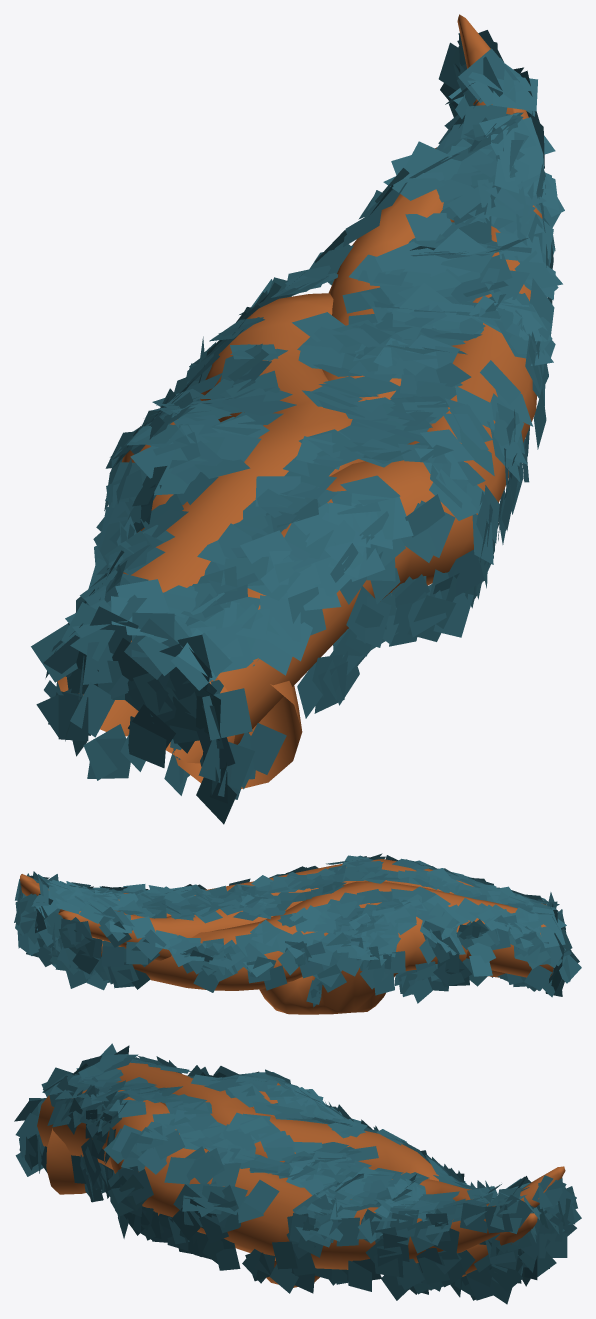
Rendered from branch_bridges_3_LOD.fbx.
3 renders of one model, top to bottom at view 1: azimuth 30°, elevation 25°; view 2: azimuth 150°, elevation 25°; view 3: azimuth 270°, elevation 25°, orthographic. The views are drawn at different scales.
Parts seen in each view (by area): view 1: vine_leaves_3_LOD_0, bridge_with_leaves_3.001_LOD_0; view 2: vine_leaves_3_LOD_0, bridge_with_leaves_3.001_LOD_0; view 3: vine_leaves_3_LOD_0, bridge_with_leaves_3.001_LOD_0.
Part boxes in pixels (x1=…): vine_leaves_3_LOD_0: x1=31, y1=30, x2=564, y2=824; bridge_with_leaves_3.001_LOD_0: x1=57, y1=14, x2=542, y2=788; vine_leaves_3_LOD_0: x1=14, y1=853, x2=581, y2=1007; bridge_with_leaves_3.001_LOD_0: x1=20, y1=859, x2=553, y2=1014; vine_leaves_3_LOD_0: x1=14, y1=1043, x2=581, y2=1304; bridge_with_leaves_3.001_LOD_0: x1=37, y1=1062, x2=565, y2=1287.
Size of what is drawn, in the model's own units: 1251 by 523 by 1216.
